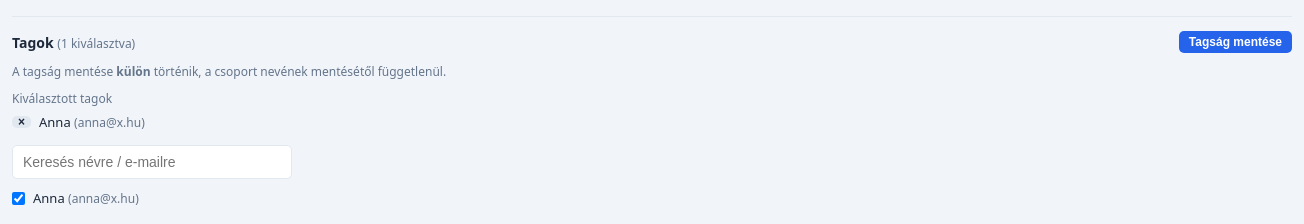
Test: SalesGroupMembersSection — kiválasztott blokk perzisztenciája › a meglévő tag akkor is látszik, ha a keresés nem hozza vissza
The image size is (1304, 224).
Type "zol" into the field labelled "Keresés névre / e-mailre" at (152, 162), box [12,145,292,179]
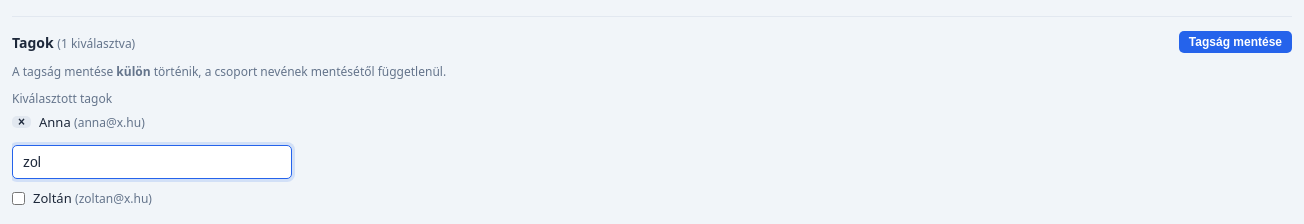
Expected: the button named "Anna eltávolítása" is shown, [12,116,31,128]
Now the text "Zoltán (zoltan@x.hu)" is shown, box [33,189,152,207]
